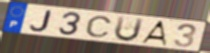3: (173, 23, 198, 48), (58, 11, 82, 36)
A: (139, 20, 168, 47)
C: (85, 15, 114, 39)
J: (29, 10, 53, 33)
U: (113, 15, 145, 43)
